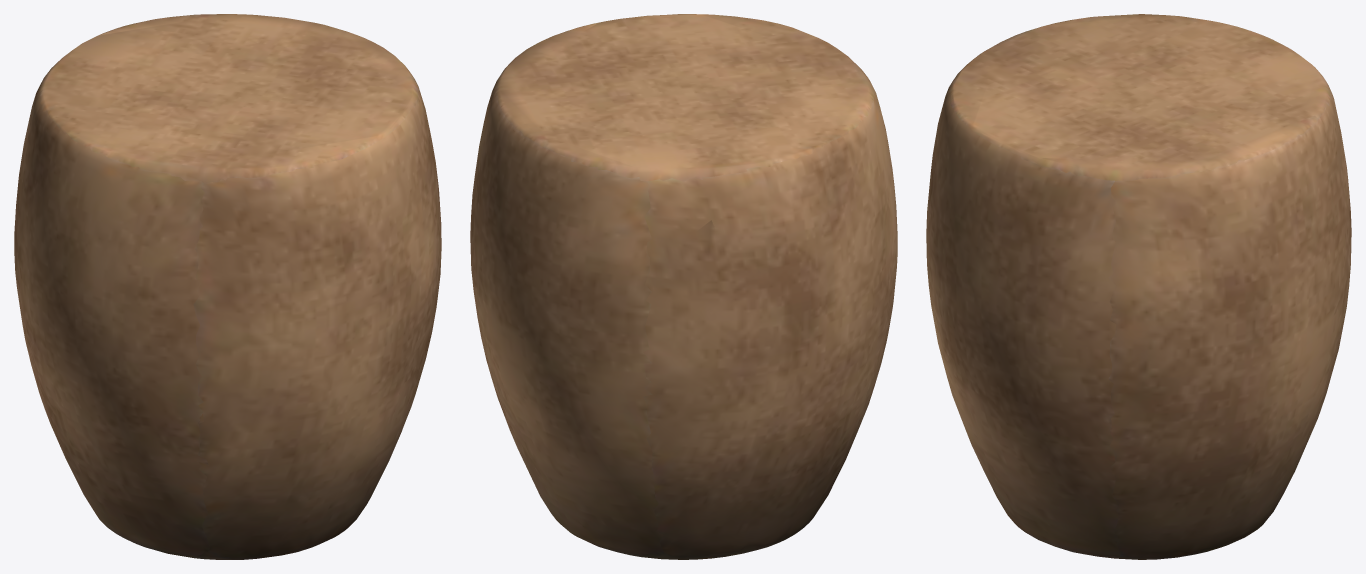
Rendered from rustic-sandstone-balcony-v001.glb.
3 views of the same model, side by side, from view 1: azimuth 30°, elevation 25°; view 2: azimuth 150°, elevation 25°; view 3: azimuth 270°, elevation 25° (orthographic).
Parts seen in each view (by area): view 1: rustic-sandstone-balcony; view 2: rustic-sandstone-balcony; view 3: rustic-sandstone-balcony.
Part boxes in pixels (x1,y1,x2,y2): rustic-sandstone-balcony: [14, 14, 441, 559]; rustic-sandstone-balcony: [470, 14, 897, 559]; rustic-sandstone-balcony: [926, 14, 1351, 559].
Size of the model in its own units: 1.24 by 1.33 by 1.24.
Materials: 1 (1 with a texture image).
